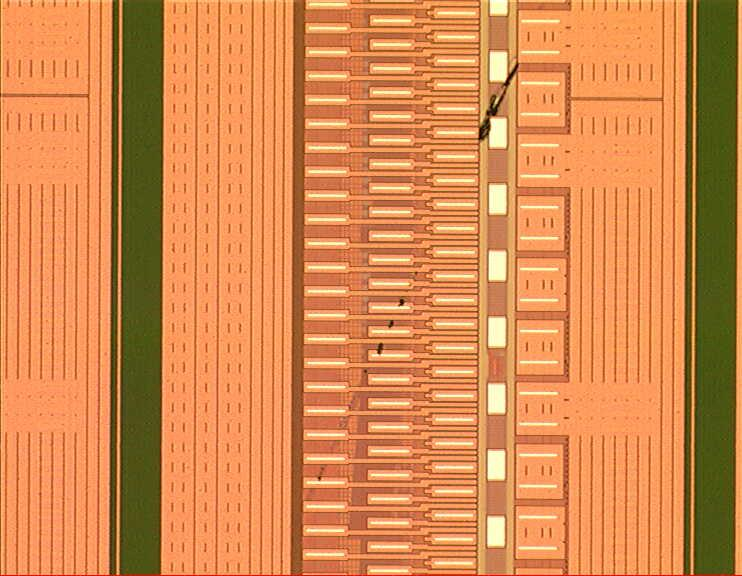SCRATCH: (306, 51, 530, 503)
